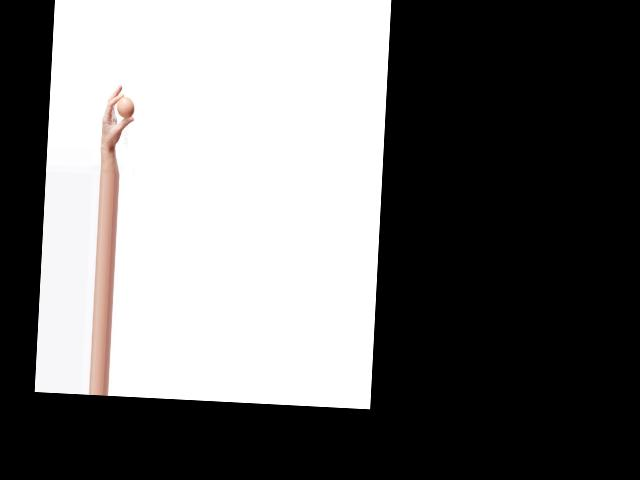egg: (117, 96, 135, 119)
